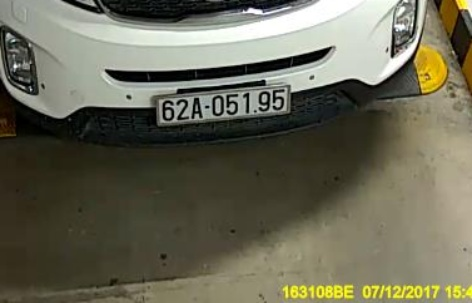plate: (151, 85, 295, 122)
